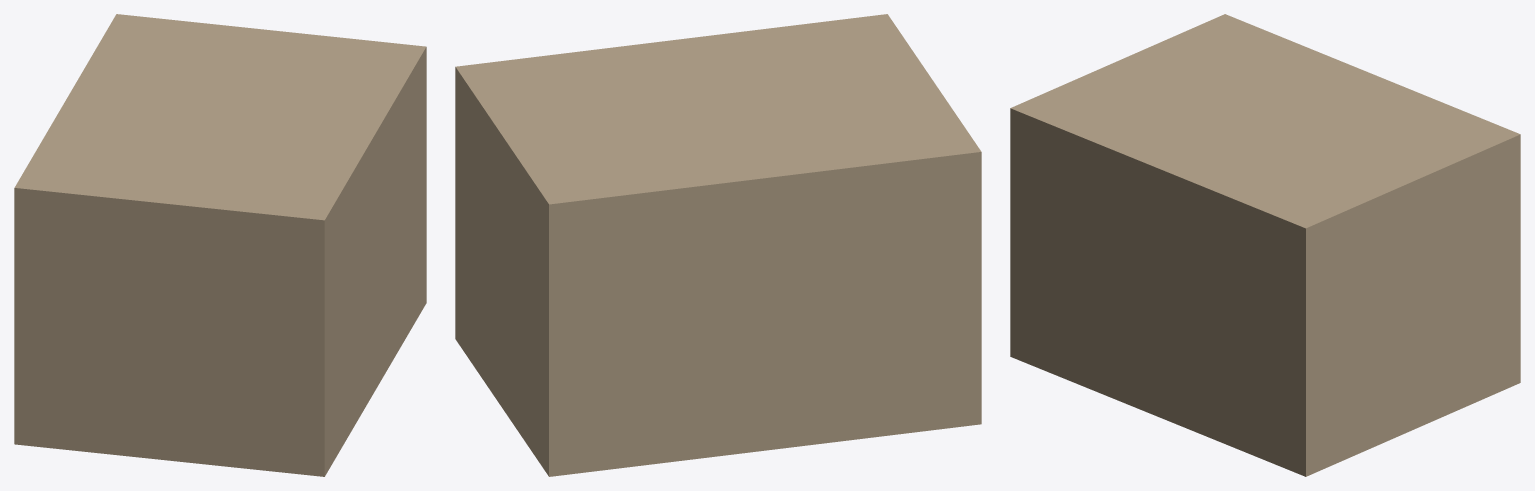
The model's file is bld_101289734.dae.
3 views of the same model, side by side, from view 1: azimuth 30°, elevation 25°; view 2: azimuth 150°, elevation 25°; view 3: azimuth 270°, elevation 25° (orthographic). The views are drawn at different scales.
Parts seen in each view (by area): view 1: bld_101289734; view 2: bld_101289734; view 3: bld_101289734.
Part boxes in pixels (<box>): bld_101289734: <box>14,14,426,476</box>; bld_101289734: <box>455,14,981,476</box>; bld_101289734: <box>1010,14,1520,476</box>.
Bounding box in the file's own units: 14.81 × 14.89 × 8.
